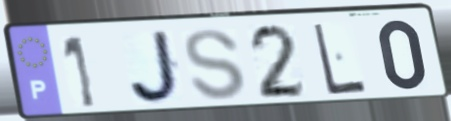0: (375, 17, 430, 93)
1: (60, 33, 98, 110)
2: (248, 23, 308, 100)
J: (126, 28, 186, 107)
L: (310, 20, 370, 97)
S: (182, 27, 249, 103)
